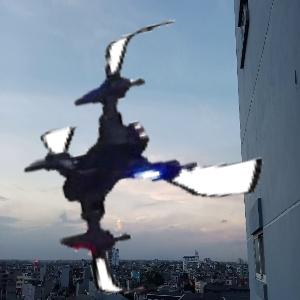drone: (7, 22, 285, 300)
